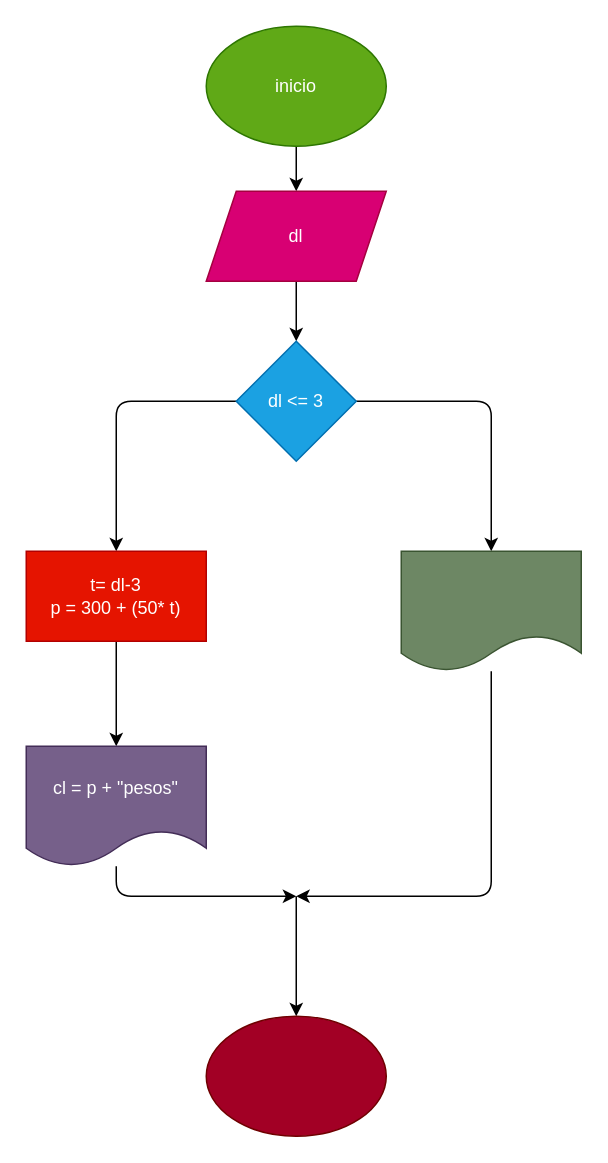
Some shapes in this 608 by 1163 pixel diagram are drawn without their labels. Each missing label, with the box of its shape:
cl = 300 pesos: (400, 550, 581, 671)
fin: (205, 1015, 386, 1136)
